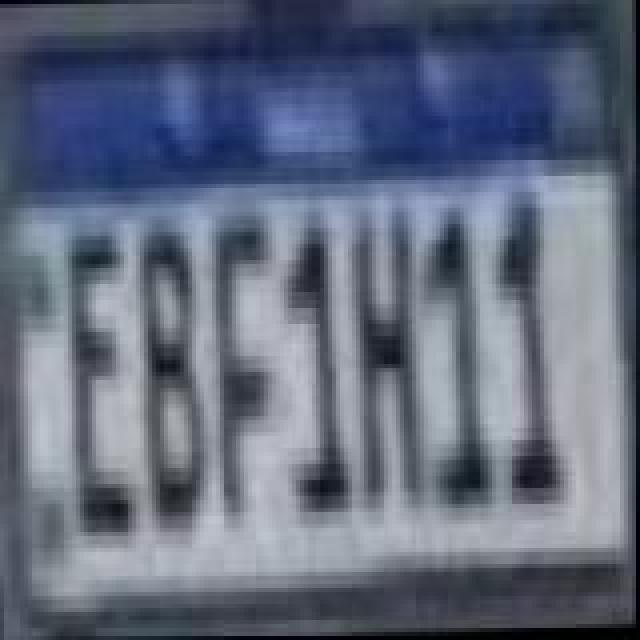1: (492, 186, 568, 514), (280, 208, 356, 520), (420, 204, 496, 516)
B: (136, 220, 212, 532)
E: (66, 222, 142, 550)
F: (212, 220, 280, 532)
H: (350, 206, 430, 518)
